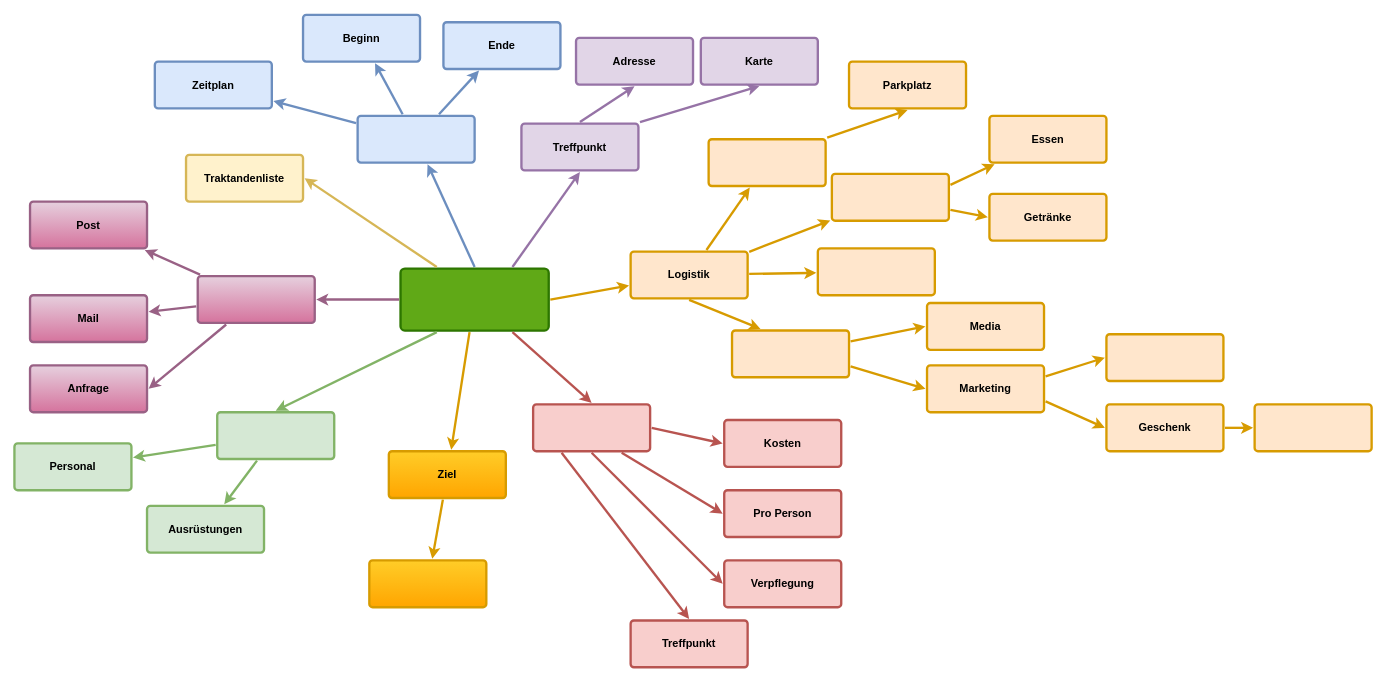
The diagram is 1386 pixels wide and 682 high, and some of its shapes have lost their labels. The shapes that lost their labels are listed below. From the top down, each one's centre as x and y in pixels, then its label:
At point (415, 138): "Datum".
At point (766, 162): "Transport".
At point (890, 197): "Catering".
At point (876, 271): "Unterkunft".
At point (256, 299): "Einladung".
At point (474, 299): "Nachhaltigkeitstagung".
At point (790, 353): "Ausrüstung".
At point (1164, 357): "Broschüre".
At point (275, 435): "Ressourcen".
At point (591, 427): "Budget".
At point (1312, 427): "werblich".
At point (427, 583): "Strategie".
